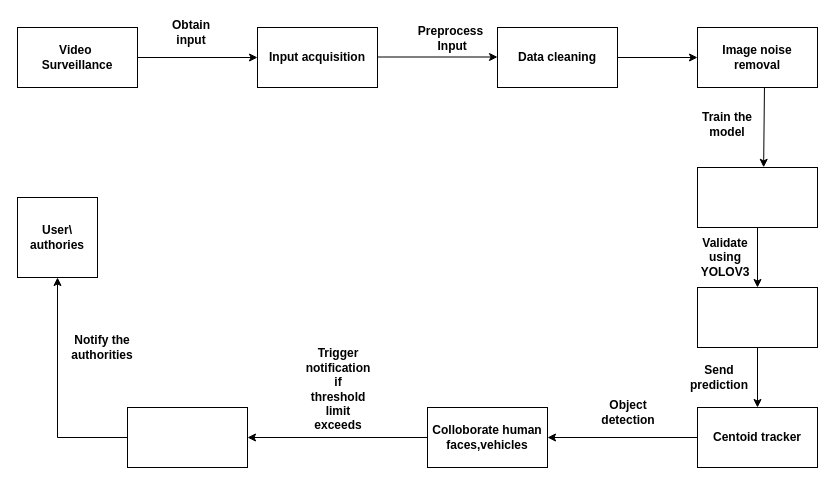
This 835x485 diagram has some shape labels left out. The box of each missing label's shape, as (x1, y1, x2, y2) in pixels:
Notification/alert Messages: (126, 406, 248, 468)
Training: (696, 166, 818, 228)
Validation: (696, 286, 818, 348)
